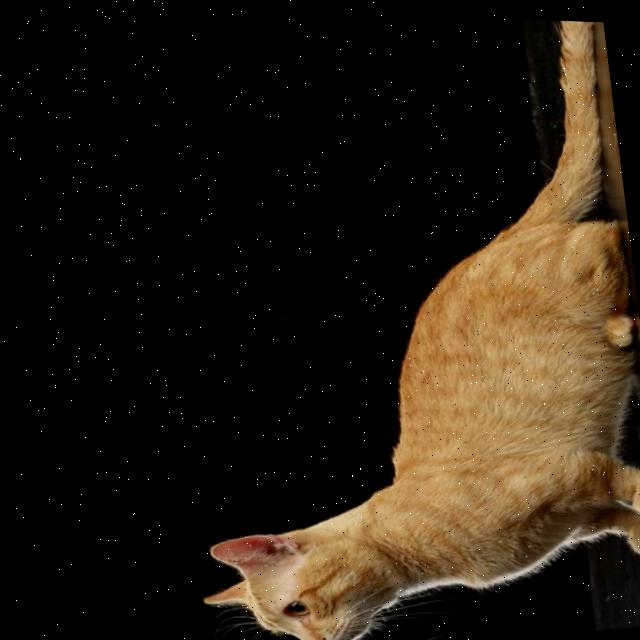Munchkin: (127, 4, 640, 640)
